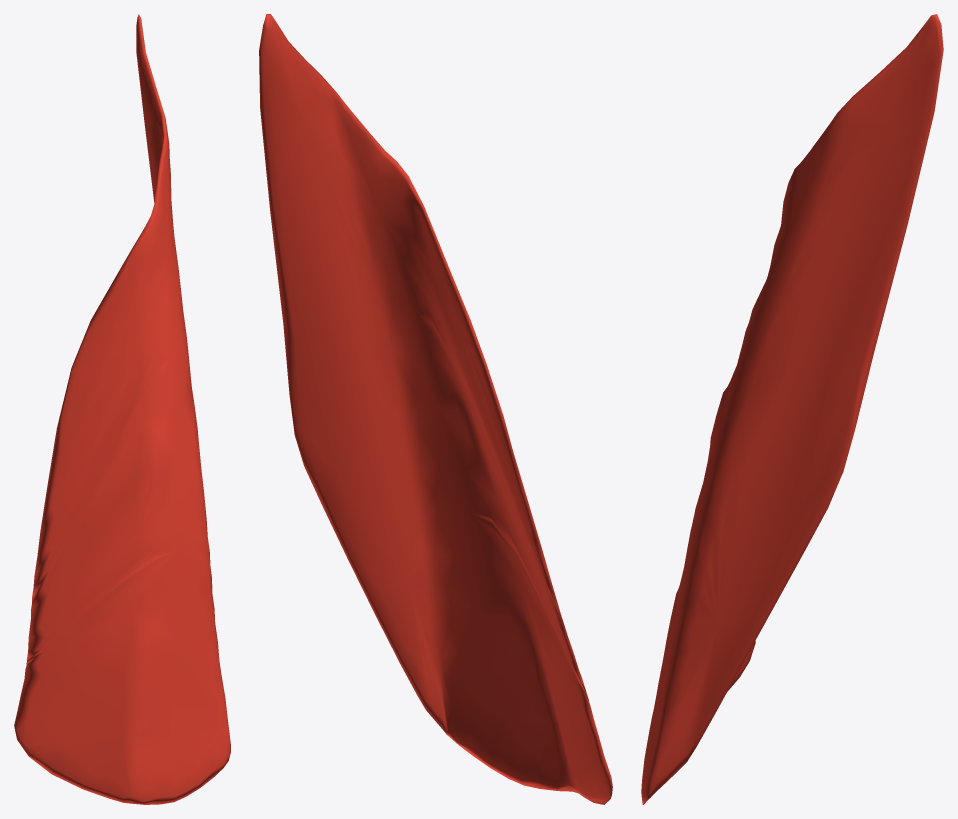
The model's file is Abductor_pollicis_longus-Radioulnar_insertion.r_Generated_Mesh_.glb.
3 views of the same model, side by side, from view 1: azimuth 30°, elevation 25°; view 2: azimuth 150°, elevation 25°; view 3: azimuth 270°, elevation 25° (orthographic). The views are drawn at different scales.
Parts seen in each view (by area): view 1: Abductor_pollicis_longus-Radioulnar_insertion.r_Generated_Me; view 2: Abductor_pollicis_longus-Radioulnar_insertion.r_Generated_Me; view 3: Abductor_pollicis_longus-Radioulnar_insertion.r_Generated_Me.
Part boxes in pixels (box(x1,y1,x2,y2)): Abductor_pollicis_longus-Radioulnar_insertion.r_Generated_Me: box(14, 14, 230, 804); Abductor_pollicis_longus-Radioulnar_insertion.r_Generated_Me: box(259, 14, 612, 804); Abductor_pollicis_longus-Radioulnar_insertion.r_Generated_Me: box(641, 14, 943, 804).
Bounding box in the file's own units: 0.0229 × 0.069 × 0.0227.
